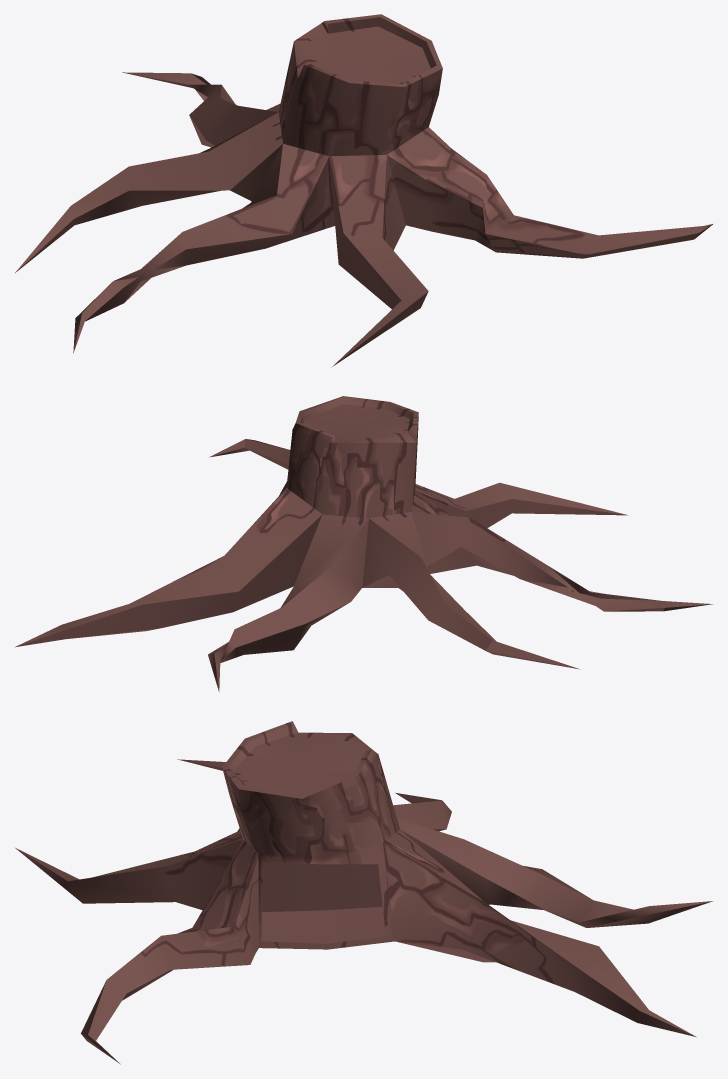
File: BiddingTree.fbx
3 renders of one model, top to bottom at view 1: azimuth 30°, elevation 25°; view 2: azimuth 150°, elevation 25°; view 3: azimuth 270°, elevation 25°, orthographic. The views are drawn at different scales.
Parts seen in each view (by area): view 1: BiddingTree1; view 2: BiddingTree1; view 3: BiddingTree1.
Boxes of the visible parts, bbox=[...] form: BiddingTree1: bbox=[15, 14, 712, 367]; BiddingTree1: bbox=[15, 396, 713, 691]; BiddingTree1: bbox=[15, 721, 712, 1064].
Bounding box in the file's own units: 1074 × 315 × 1038.
